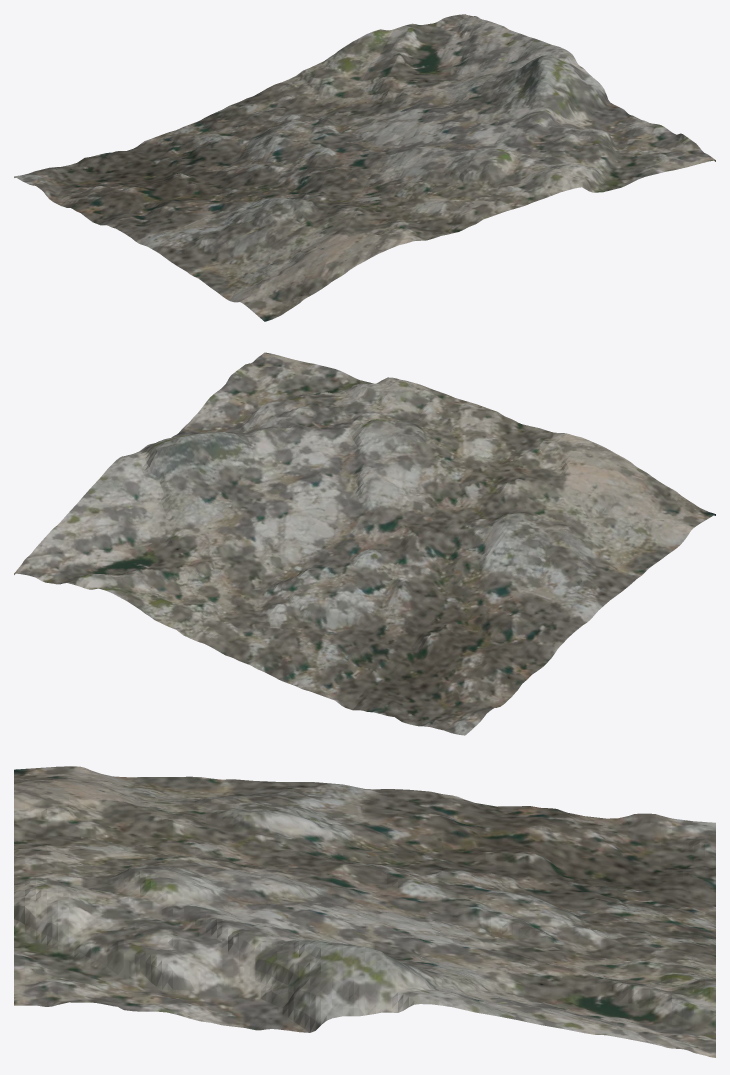
The picture shows the model from 3 angles, top to bottom: view 1: azimuth 30°, elevation 25°; view 2: azimuth 150°, elevation 25°; view 3: azimuth 270°, elevation 25°; orthographic projection. The views are drawn at different scales.
Bounding box in the file's own units: 250 × 59.12 × 241.
1 material, 1 textured.
